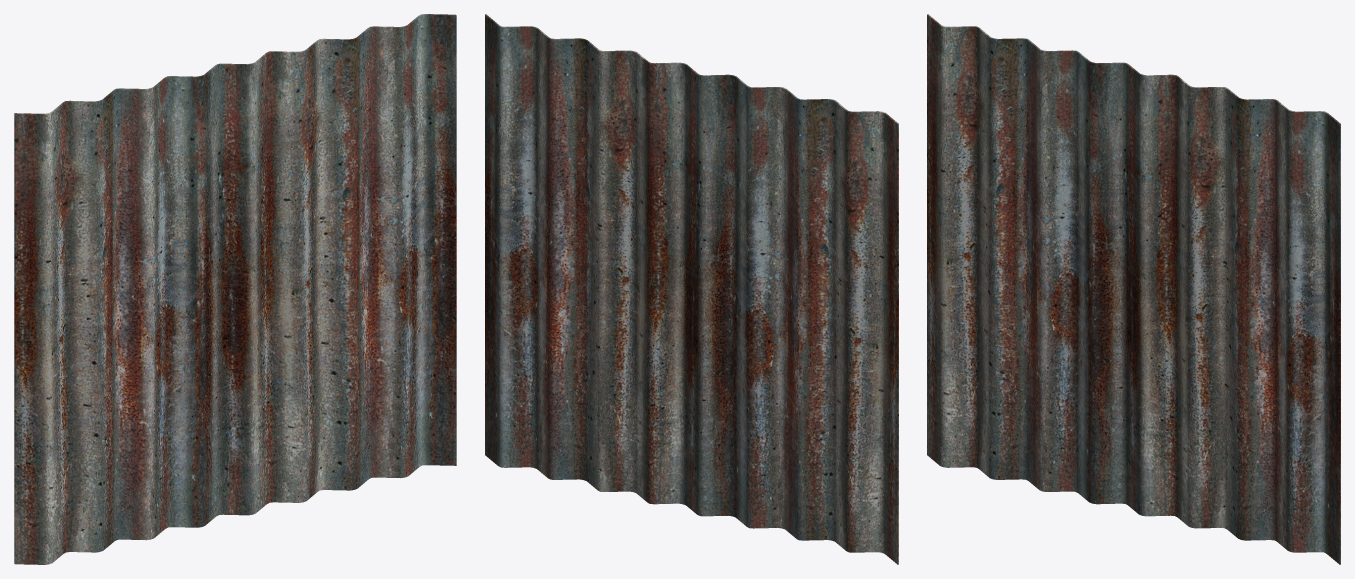
File: metal_sheet.glb
3 views of the same model, side by side, from view 1: azimuth 30°, elevation 25°; view 2: azimuth 150°, elevation 25°; view 3: azimuth 330°, elevation 25° (orthographic). The views are drawn at different scales.
Visible parts, largest first — view 1: Object_2; view 2: Object_2; view 3: Object_2.
Part boxes in pixels (left/top/right/bottom): Object_2: left=14, top=14, right=456, bottom=564; Object_2: left=485, top=14, right=898, bottom=564; Object_2: left=927, top=14, right=1340, bottom=564.
Bounding box in the file's own units: 98.43 × 98.06 × 4.17.
Materials: 1 (1 with a texture image).
